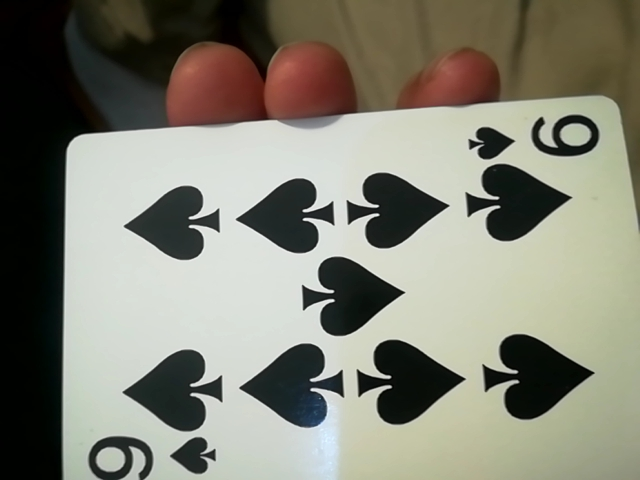ht 9: (50, 107, 631, 479)
